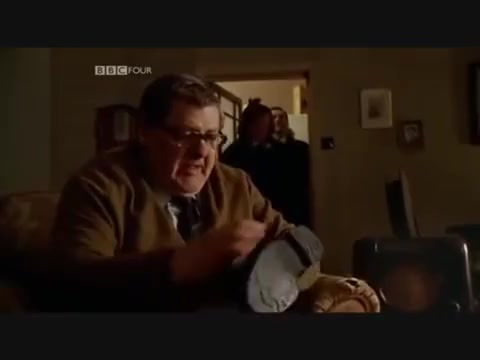Frotter: (177, 216, 268, 266)
